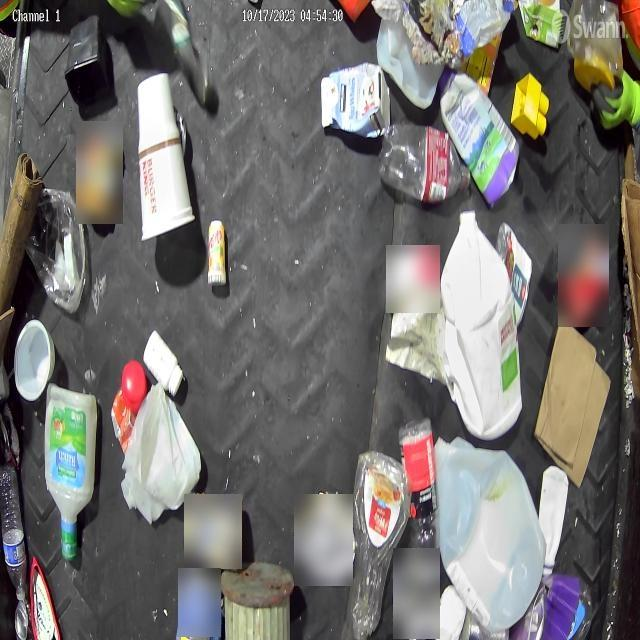milk_jug: (434, 434, 548, 628), (441, 211, 523, 439), (376, 13, 440, 109)
non_white_jug: (322, 64, 389, 140)
plastic_bottle: (358, 448, 410, 630), (401, 417, 444, 591), (380, 126, 470, 204), (1, 467, 30, 612)
